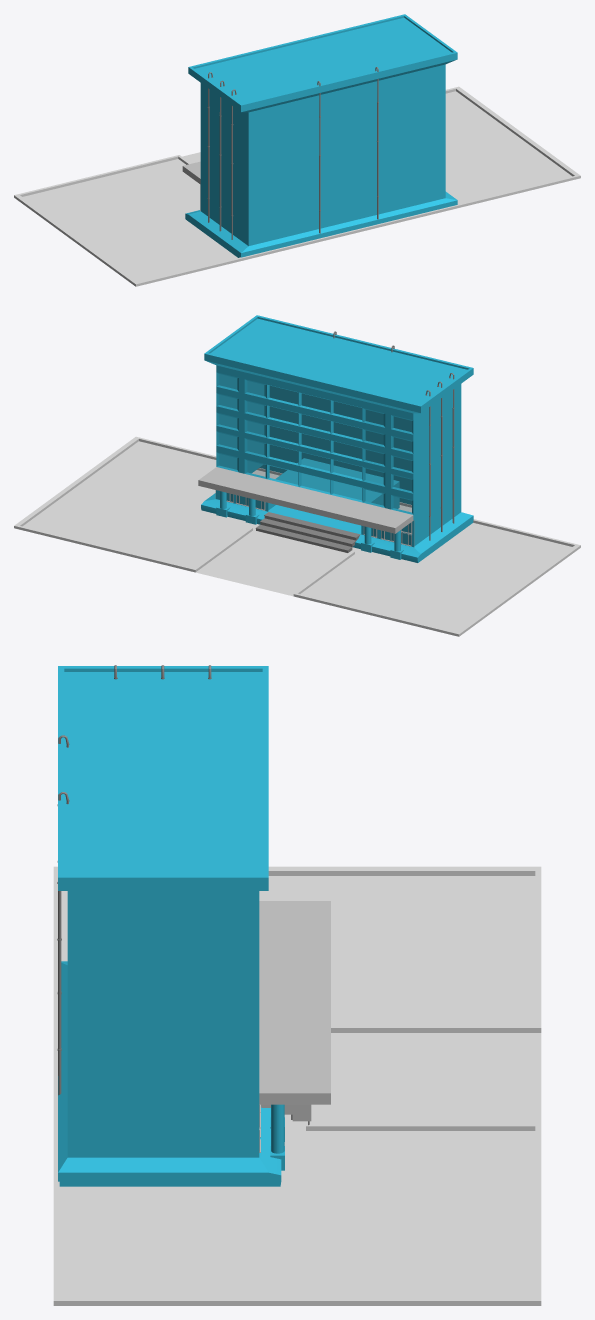
The model's file is clg.glb.
The picture shows the model from 3 angles, top to bottom: view 1: azimuth 30°, elevation 25°; view 2: azimuth 150°, elevation 25°; view 3: azimuth 270°, elevation 25°; orthographic projection. The views are drawn at different scales.
Visible parts, largest first — view 1: Cube, ground; view 2: Cube, ground; view 3: ground, Cube.
Boxes of the visible parts, <box> form: Cube: <box>182,14,457,257</box>; ground: <box>14,86,580,286</box>; Cube: <box>198,315,473,562</box>; ground: <box>14,436,580,636</box>; ground: <box>53,866,541,1305</box>; Cube: <box>57,665,330,1186</box>.
Size of the model in its own units: 140 by 47.94 by 66.17.
